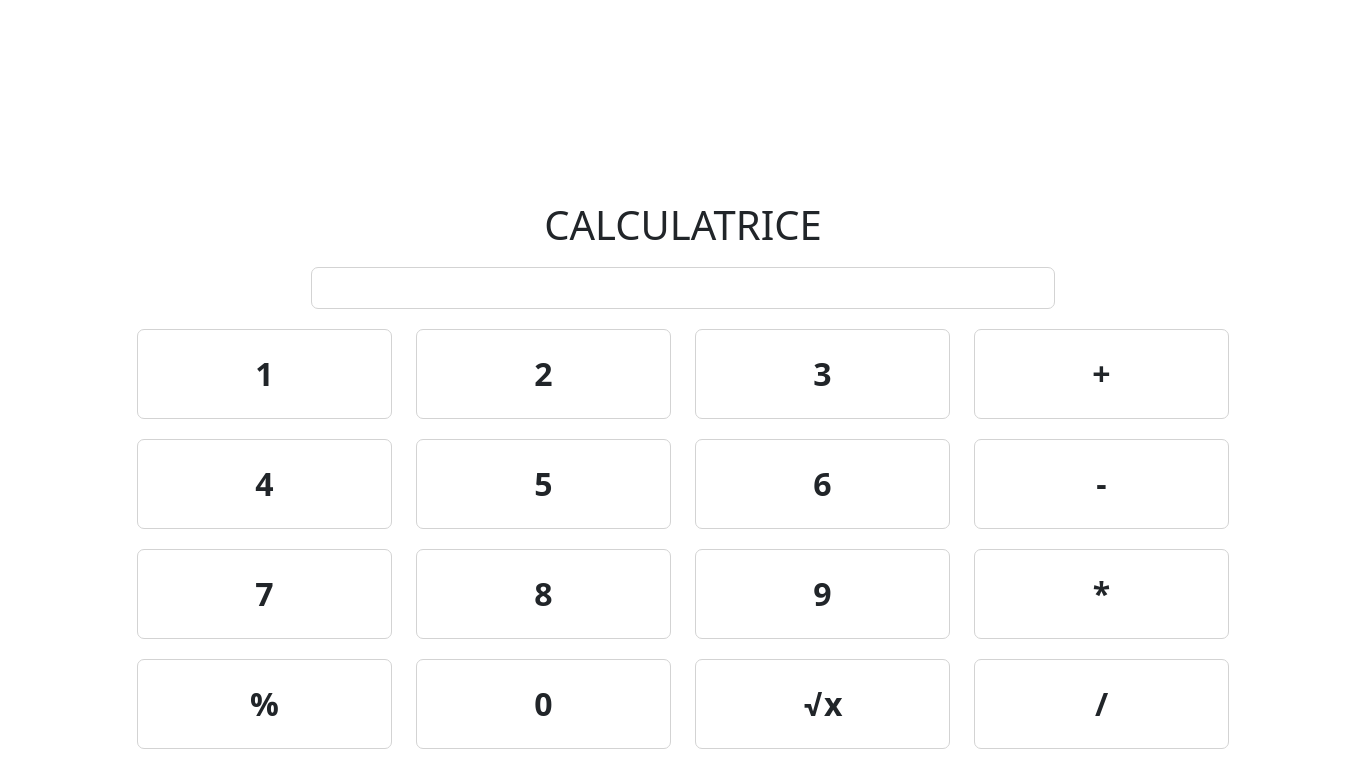
Scenario: calculatrice app › addition
The width and height of the screenshot is (1366, 768).
Click the text with class "touch" showing "2" at (544, 374), box [416,329,671,419]
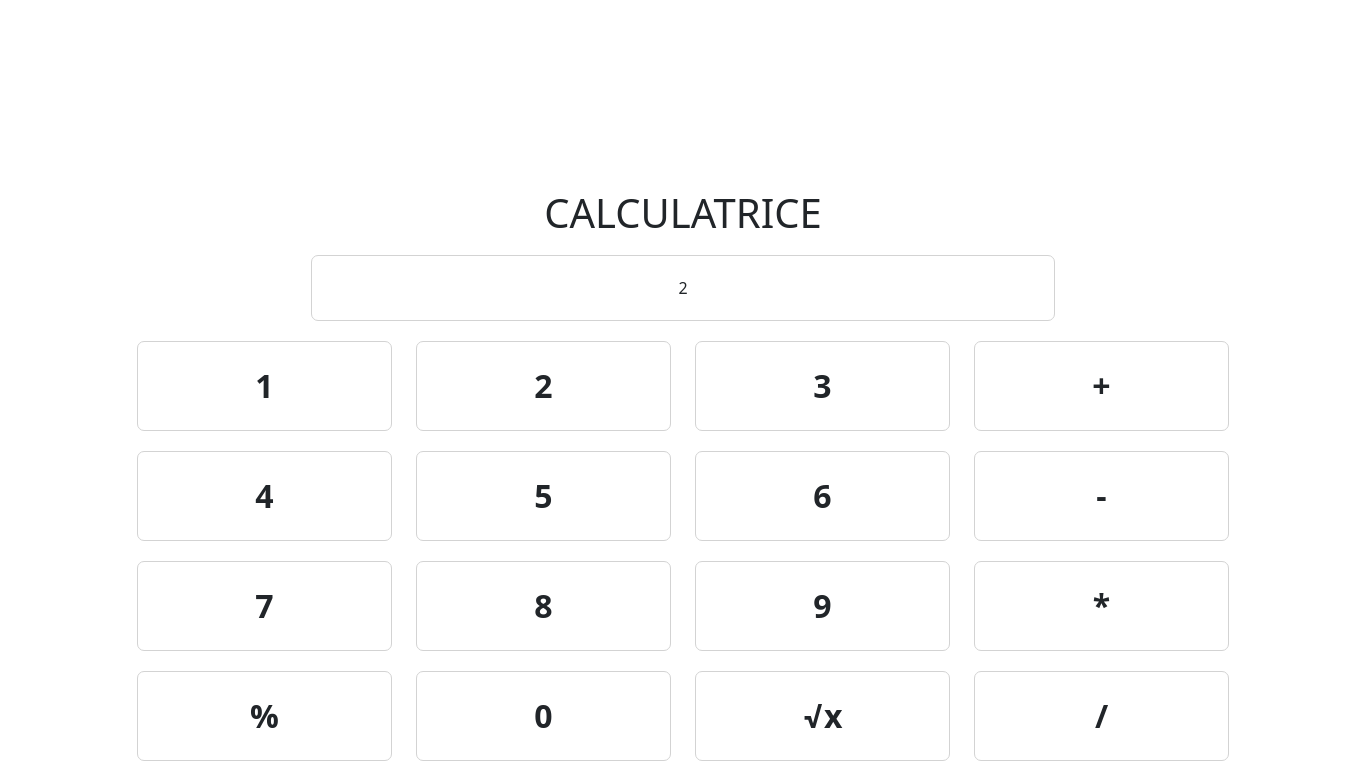
Click the text with class "touch" showing "+" at (1102, 386), box [974,341,1229,431]
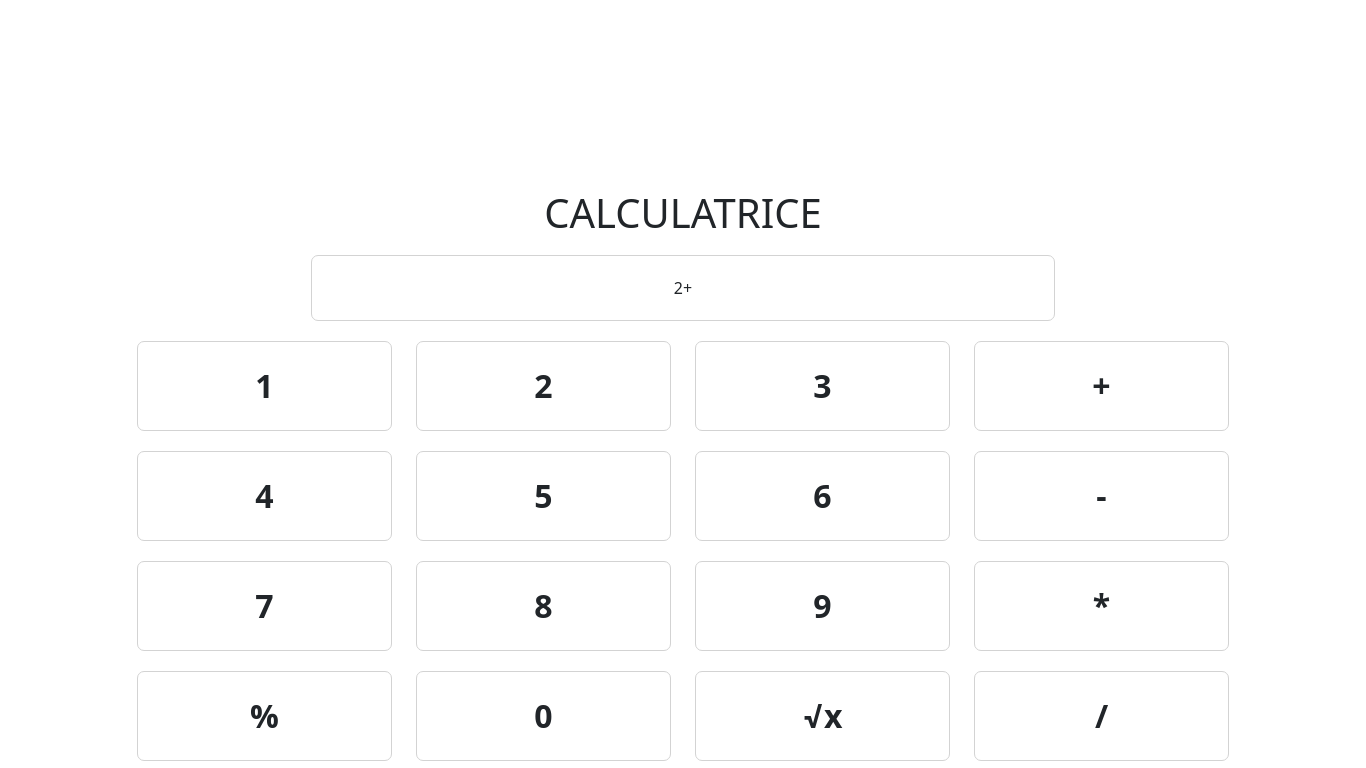
Click the text with class "touch" showing "2" at (544, 386), box [416,341,671,431]
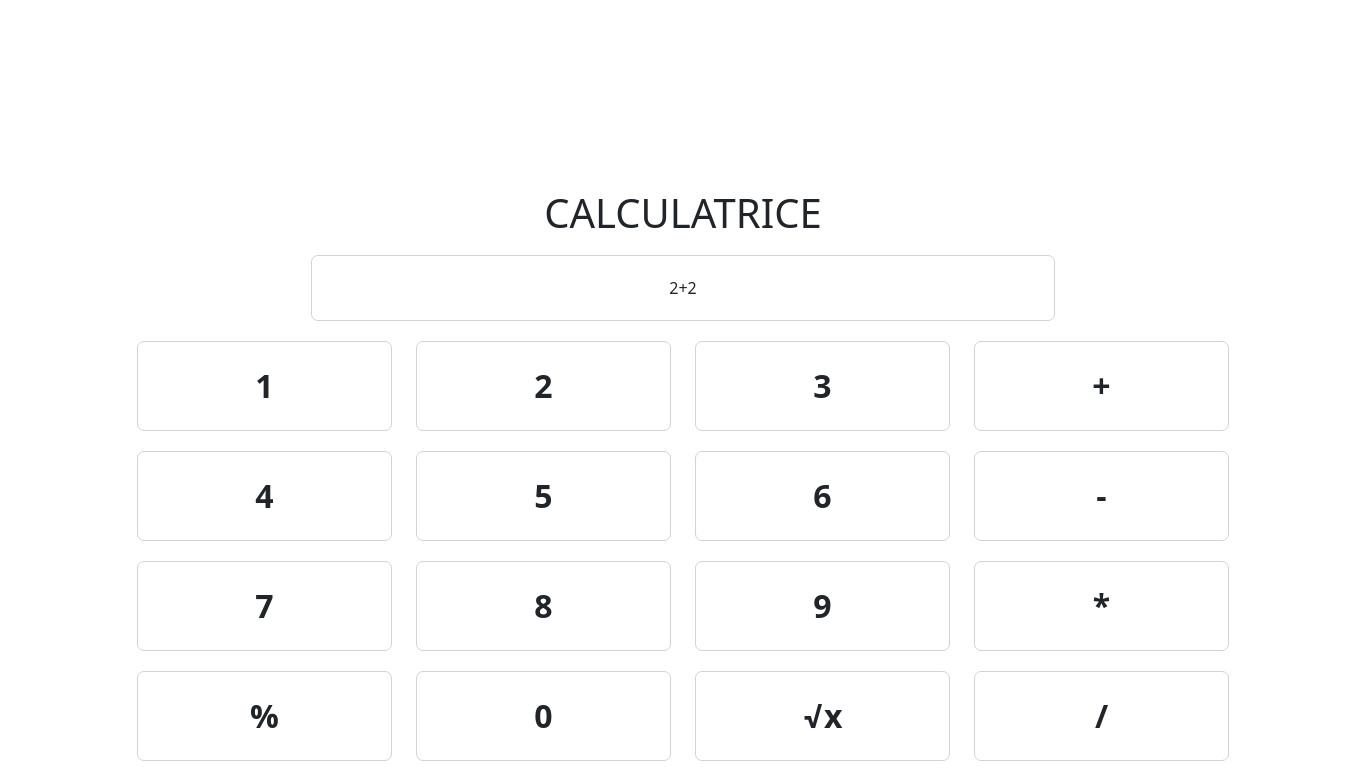
Scroll
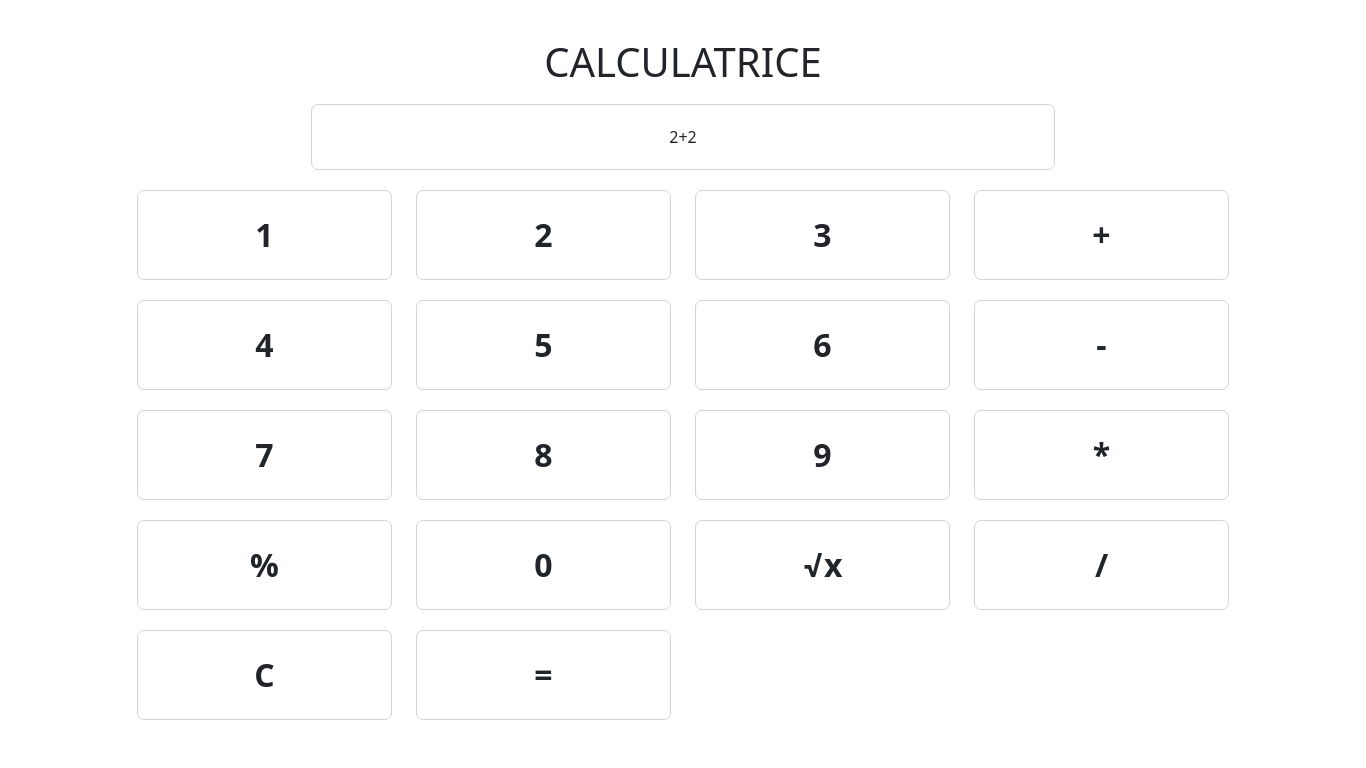
Click the text with class "touch" showing "=" at (544, 675), box [416,630,671,720]
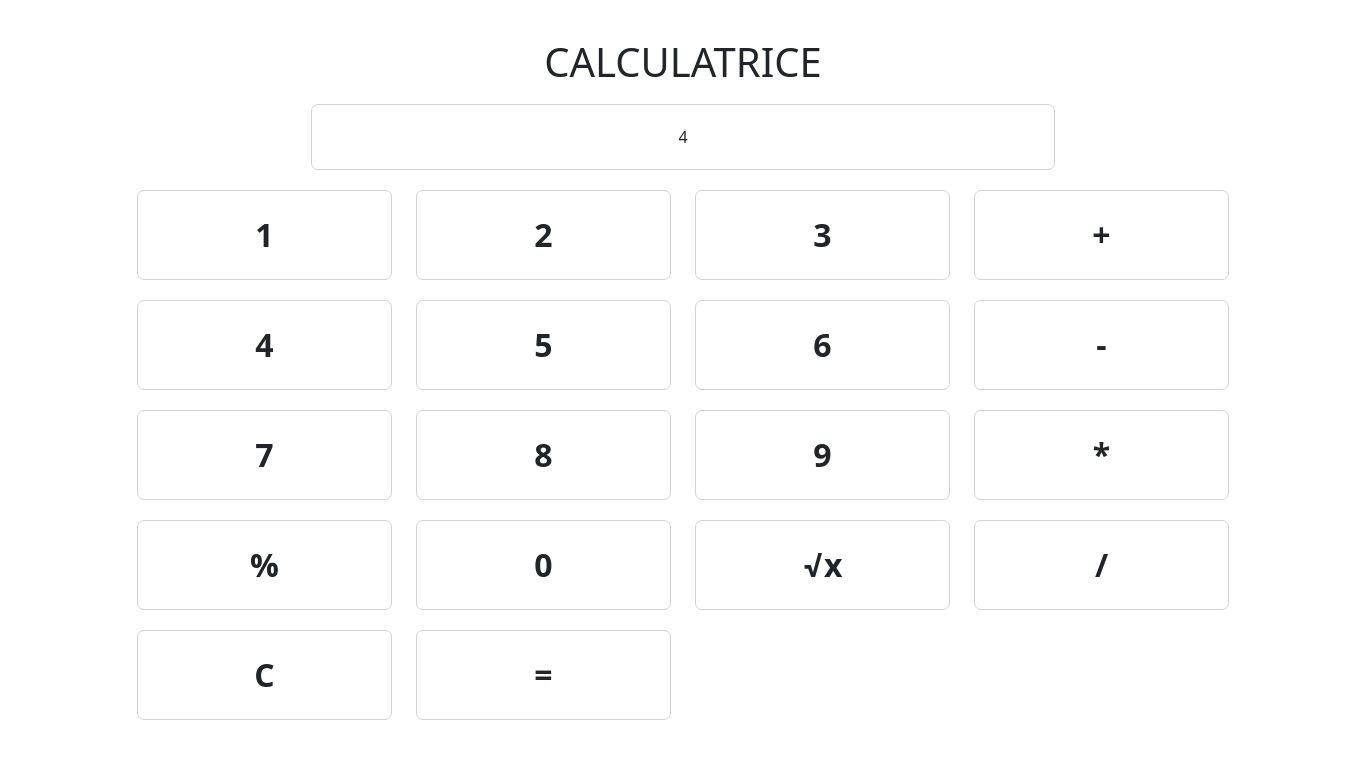
Result: the text with class "result" reads "4" at [311,104,1055,170]
